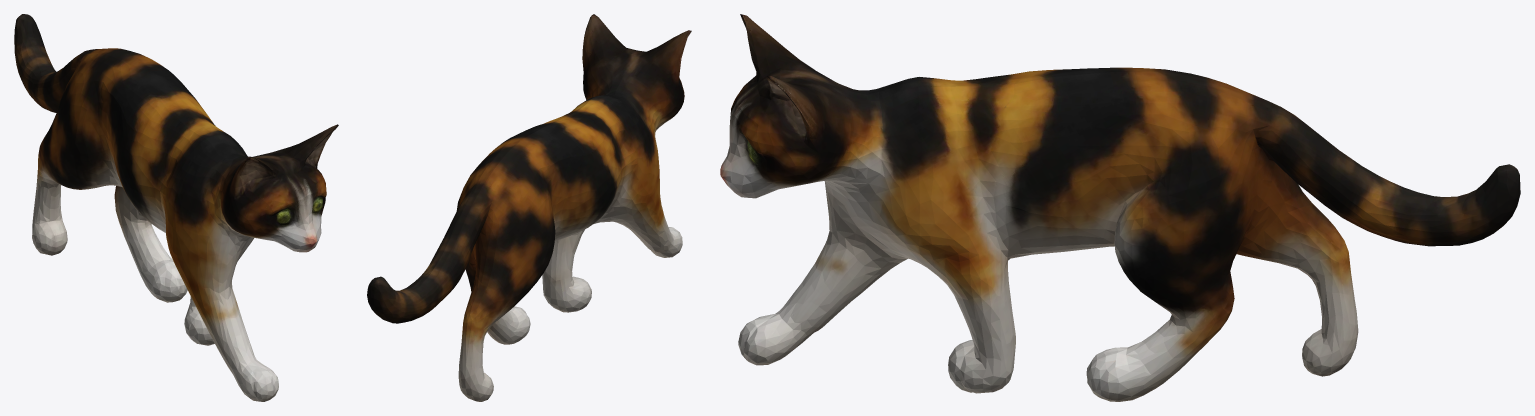
The model's file is actor_cat_calico.glb.
3 views of the same model, side by side, from view 1: azimuth 30°, elevation 25°; view 2: azimuth 150°, elevation 25°; view 3: azimuth 270°, elevation 25° (orthographic). The views are drawn at different scales.
Parts seen in each view (by area): view 1: geometry_0; view 2: geometry_0; view 3: geometry_0.
Boxes of the visible parts, x1,y1,x2,y2 form: geometry_0: (14, 14, 338, 401); geometry_0: (367, 14, 691, 401); geometry_0: (720, 14, 1520, 401).
Bounding box in the file's own units: 0.2232 × 0.4801 × 0.9985.
Materials: 1 (1 with a texture image).
